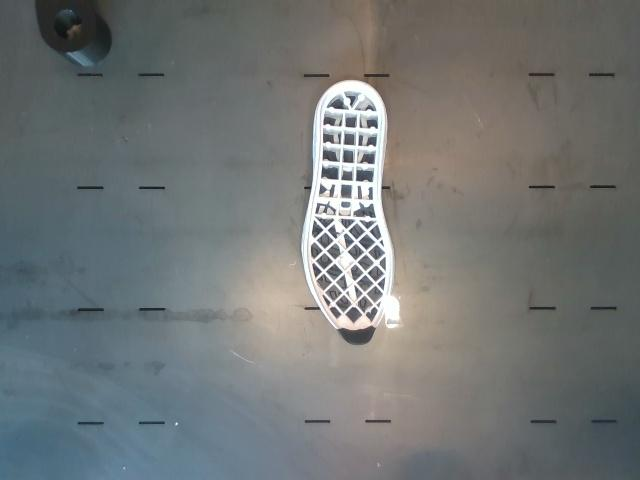shoes: (307, 82, 391, 344)
